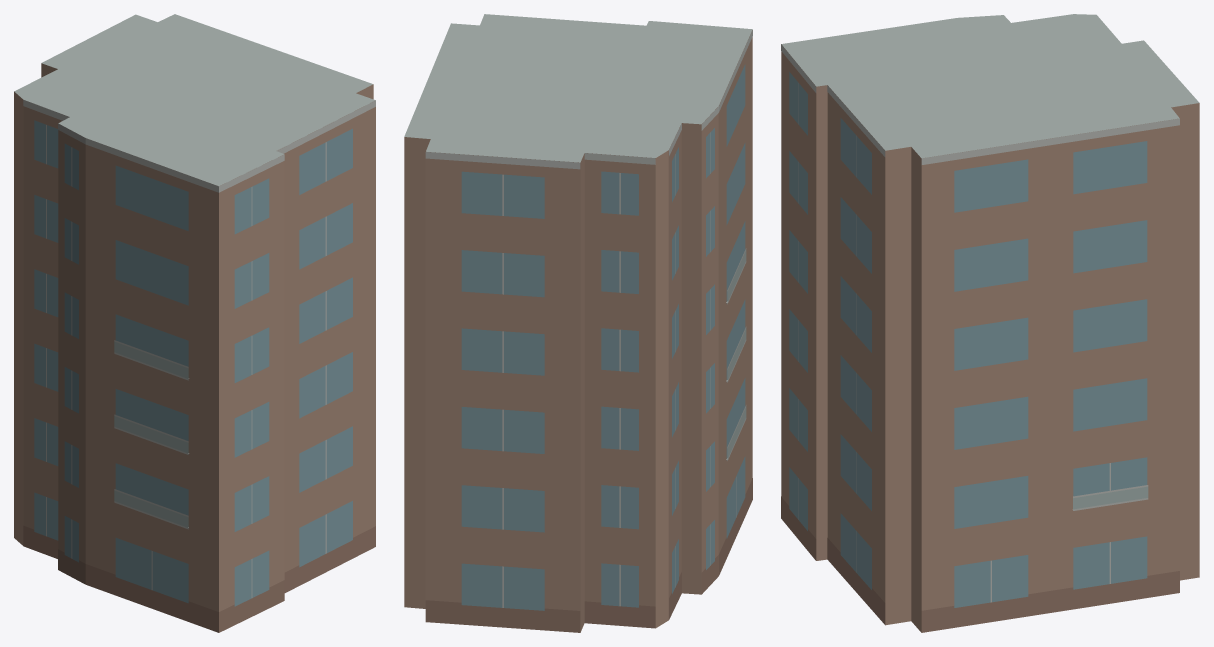
Rendered from survey-upis-33030444.glb.
3 renders of one model, left to right at view 1: azimuth 30°, elevation 25°; view 2: azimuth 150°, elevation 25°; view 3: azimuth 270°, elevation 25°, orthographic. The views are drawn at different scales.
Visible parts, largest first — view 1: survey-upis-33030444.tmp; view 2: survey-upis-33030444.tmp; view 3: survey-upis-33030444.tmp.
Part boxes in pixels (box(x1,y1,x2,y2)): survey-upis-33030444.tmp: box(14, 14, 375, 632); survey-upis-33030444.tmp: box(404, 14, 752, 632); survey-upis-33030444.tmp: box(781, 14, 1199, 632).
Size of the model in its own units: 11.04 by 16.9 by 13.52.
